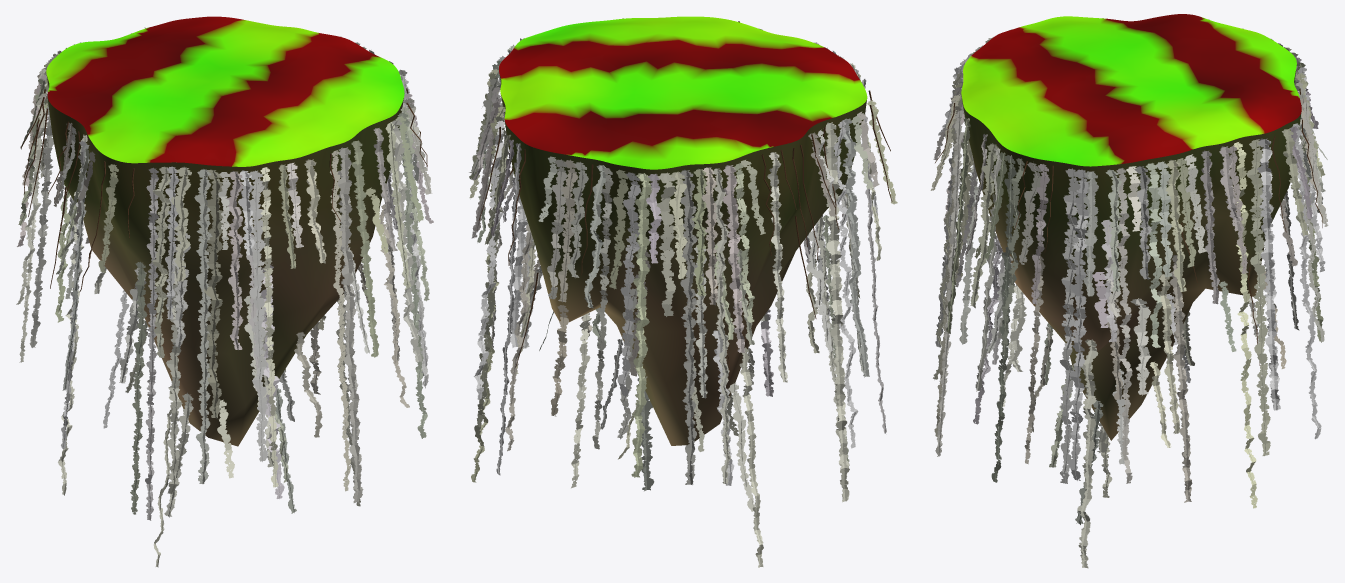
The model's file is SM_H07_Floater07.fbx.
The picture shows the model from 3 angles, left to right: view 1: azimuth 30°, elevation 25°; view 2: azimuth 150°, elevation 25°; view 3: azimuth 270°, elevation 25°; orthographic projection. The views are drawn at different scales.
Parts seen in each view (by area): view 1: SM_H07_Floater07, SM_H07_Floater07_Ivy; view 2: SM_H07_Floater07, SM_H07_Floater07_Ivy; view 3: SM_H07_Floater07, SM_H07_Floater07_Ivy.
Part boxes in pixels (box(x1,y1,x2,y2)): SM_H07_Floater07: box(46, 16, 404, 446); SM_H07_Floater07_Ivy: box(16, 27, 433, 567); SM_H07_Floater07: box(499, 16, 867, 445); SM_H07_Floater07_Ivy: box(469, 18, 897, 567); SM_H07_Floater07: box(961, 14, 1301, 440); SM_H07_Floater07_Ivy: box(930, 18, 1328, 568).
Bounding box in the file's own units: 31.07 × 37.88 × 30.27.
